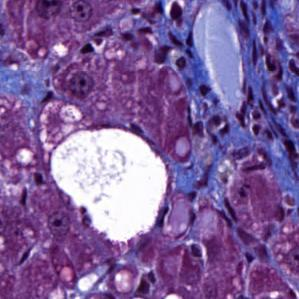ballooning: (49, 125, 171, 248)
